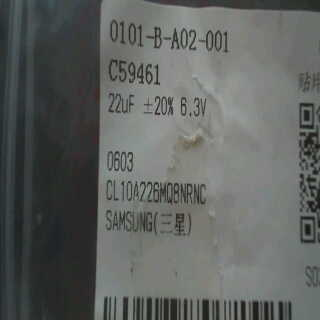22uF: (104, 88, 140, 121)
